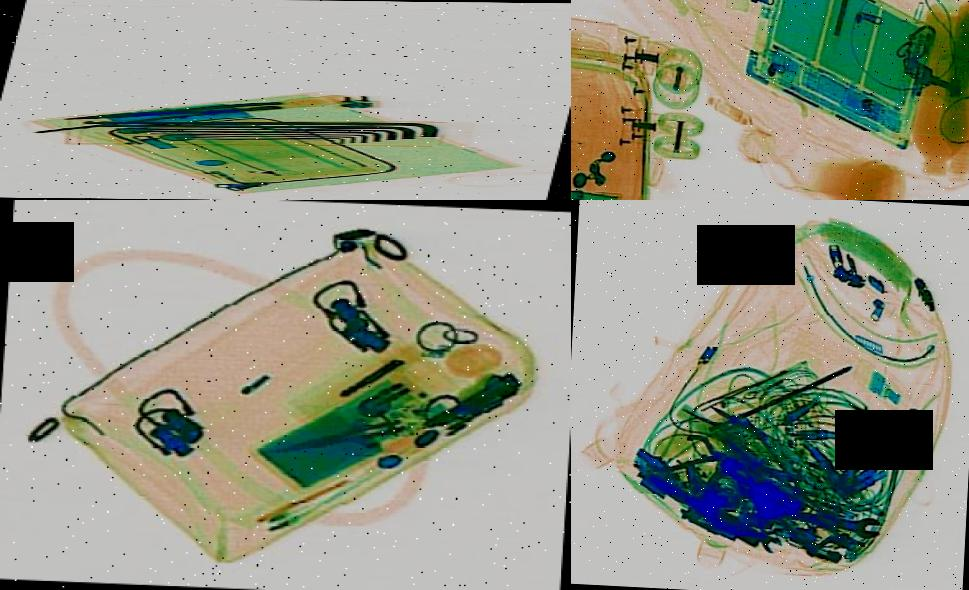Knife: (264, 410, 404, 461)
Pliers: (55, 98, 285, 124), (662, 431, 726, 473)
Wrench: (692, 491, 784, 556), (802, 504, 882, 540)
